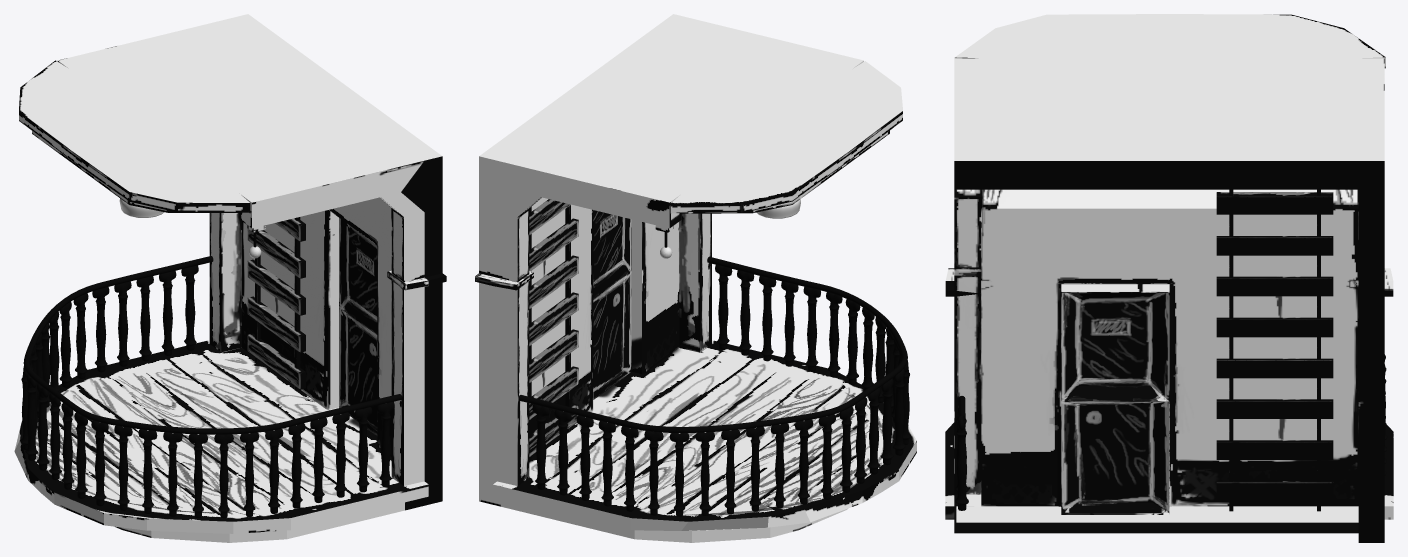
File: balcony.fbx
3 views of the same model, side by side, from view 1: azimuth 30°, elevation 25°; view 2: azimuth 150°, elevation 25°; view 3: azimuth 270°, elevation 25° (orthographic). The views are drawn at different scales.
Visible parts, largest first — view 1: Cube.004, Cube.005, Cube.013, Cube.006, BezierCurve.001; view 2: Cube.004, Cube.005, Cube.006, Cube.013, BezierCurve.001; view 3: Cube.004, Cube.013, Cube.006, Cube.005.
Boxes of the visible parts, x1,y1,x2,y2 form: Cube.004: [14, 14, 446, 542]; Cube.005: [21, 265, 401, 518]; Cube.013: [339, 218, 377, 435]; Cube.006: [247, 217, 305, 391]; BezierCurve.001: [23, 256, 401, 434]; Cube.004: [475, 14, 916, 542]; Cube.005: [532, 263, 910, 516]; Cube.006: [529, 199, 578, 461]; Cube.013: [593, 210, 631, 399]; BezierCurve.001: [518, 256, 907, 432]; Cube.004: [945, 14, 1393, 542]; Cube.013: [1061, 292, 1169, 512]; Cube.006: [1216, 189, 1333, 511]; Cube.005: [955, 354, 1386, 510].
Size of the model in its own units: 534 by 560 by 596.
